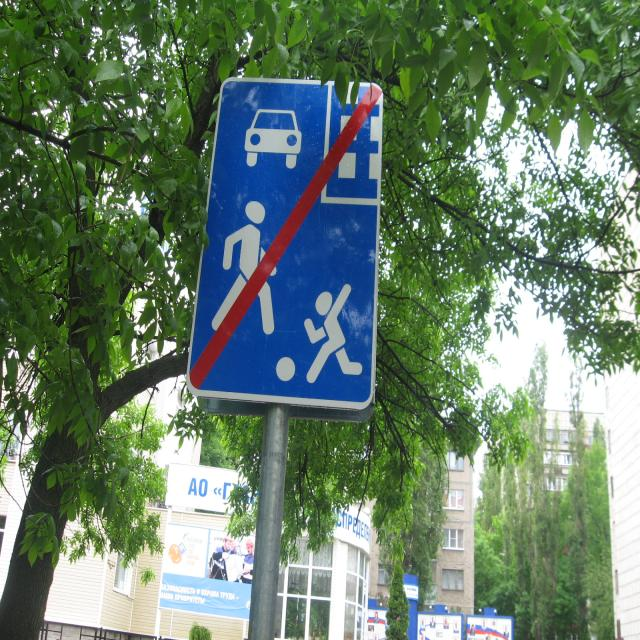Traffic sign: (190, 68, 390, 423)
